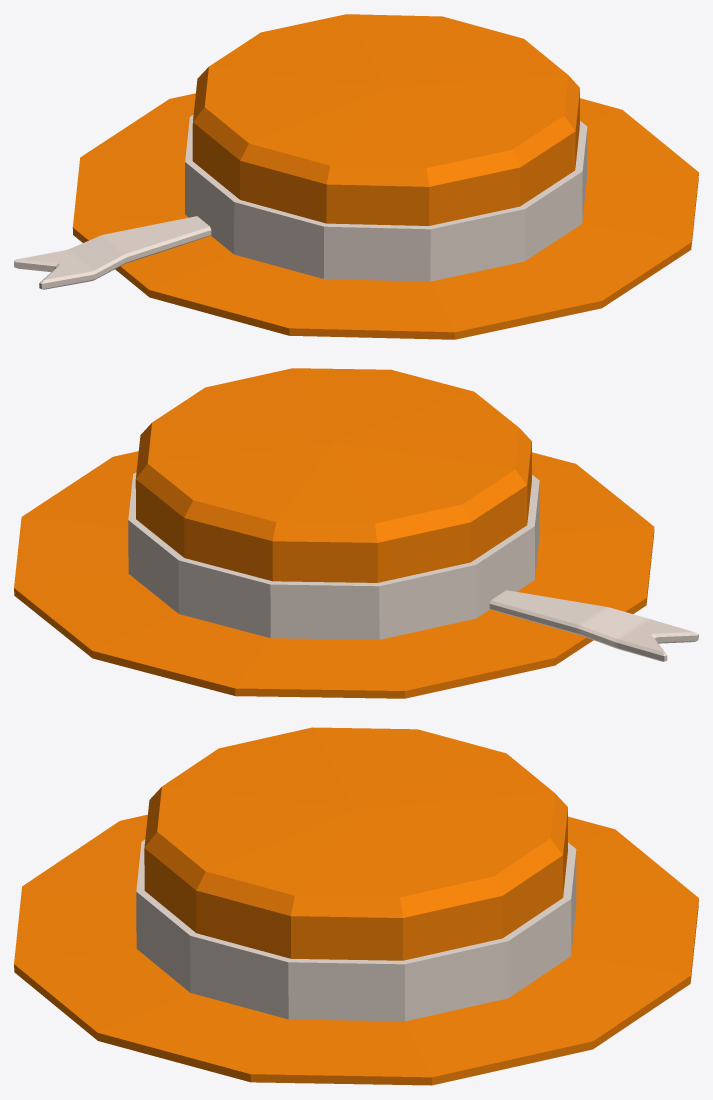
File: Isl_11_Hat_2.fbx
3 views of the same model, one above another, from view 1: azimuth 30°, elevation 25°; view 2: azimuth 150°, elevation 25°; view 3: azimuth 270°, elevation 25° (orthographic). The views are drawn at different scales.
Visible parts, largest first — view 1: Isl_11_Hat_2; view 2: Isl_11_Hat_2; view 3: Isl_11_Hat_2.
Boxes of the visible parts, x1=… form: Isl_11_Hat_2: x1=14, y1=14, x2=698, y2=339; Isl_11_Hat_2: x1=14, y1=368, x2=698, y2=698; Isl_11_Hat_2: x1=14, y1=727, x2=698, y2=1085.
Size of the model in its own units: 54.79 by 47.76 by 10.18.
Materials: 1 (1 with a texture image).
